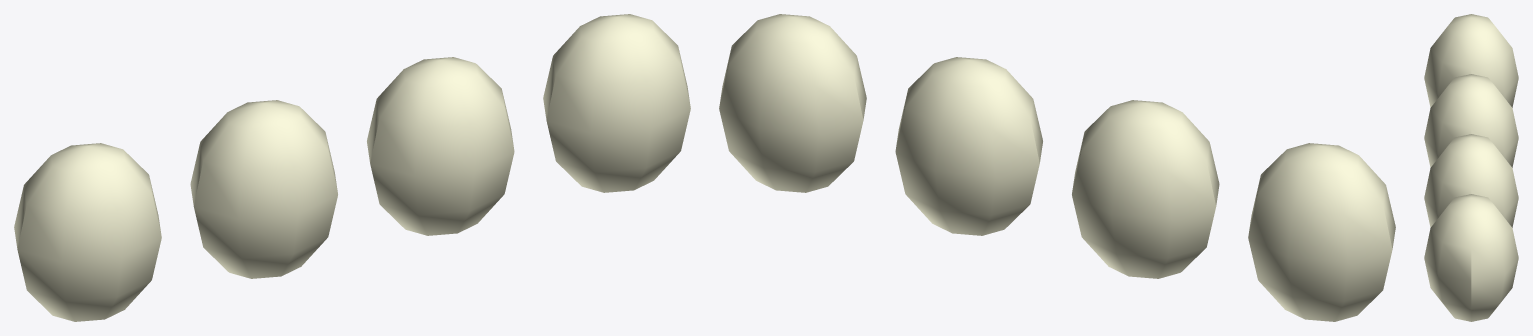
Rendered from tooth_row.glb.
3 renders of one model, left to right at view 1: azimuth 30°, elevation 25°; view 2: azimuth 150°, elevation 25°; view 3: azimuth 270°, elevation 25°, orthographic. The views are drawn at different scales.
Parts seen in each view (by area): view 1: tooth_row; view 2: tooth_row; view 3: tooth_row.
Part boxes in pixels (x1,y1,x2,y2): tooth_row: (14,14,690,321); tooth_row: (719,14,1395,321); tooth_row: (1424,14,1518,321).
Size of the model in its own units: 0.342 by 0.084 by 0.06.
